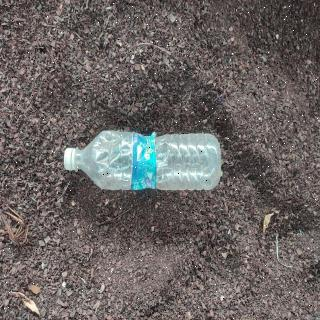Plastic-bottle: (61, 127, 228, 195)
